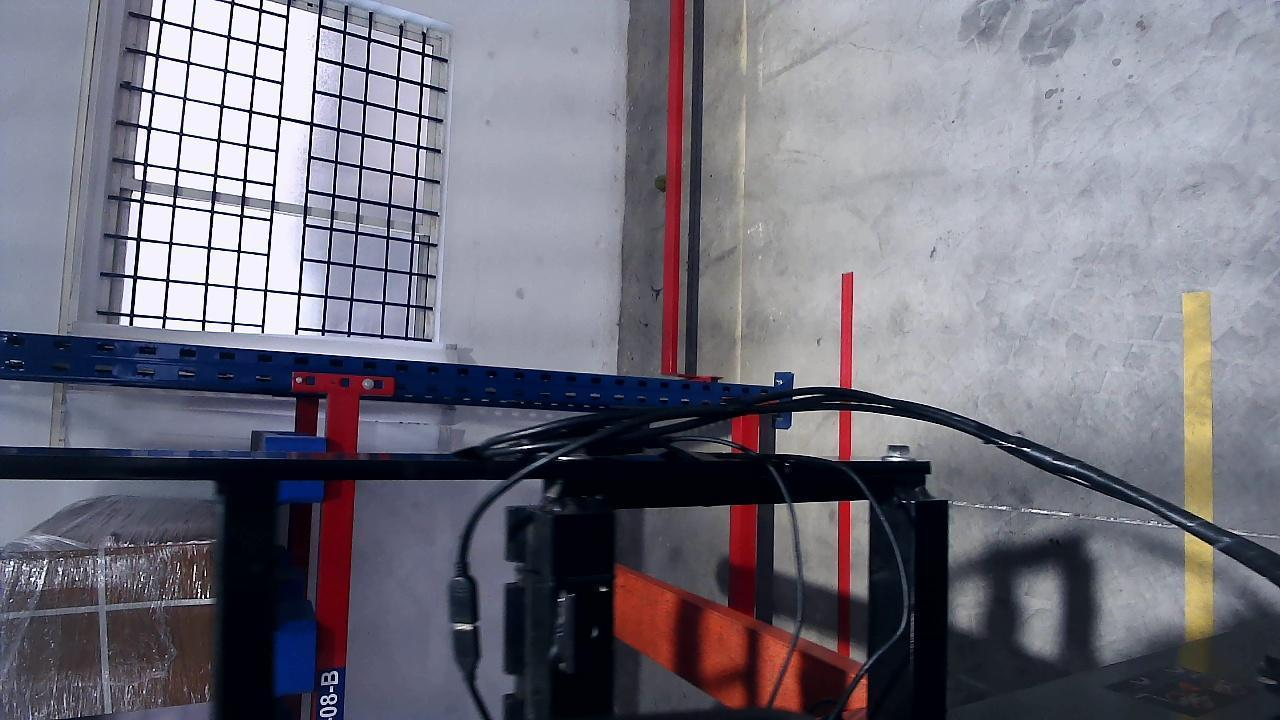red_line: (839, 272, 850, 658)
yellow_line: (1183, 295, 1213, 638)
